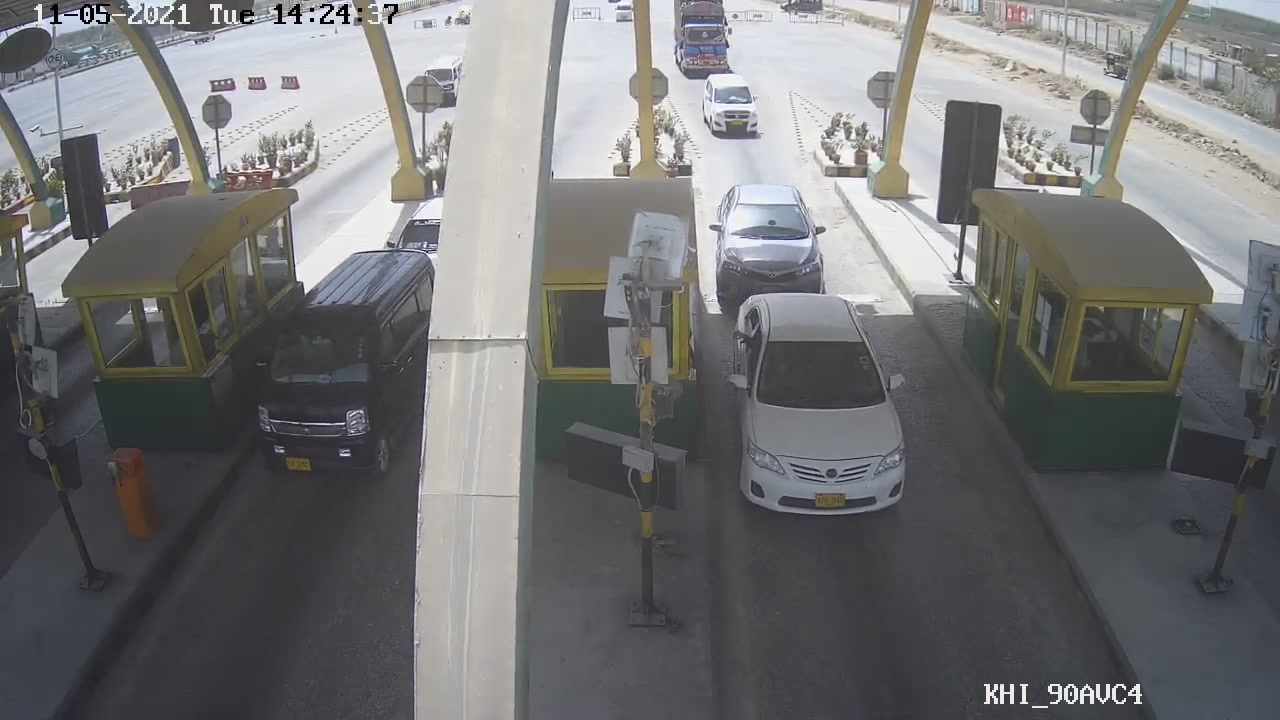F1: (726, 290, 915, 516)
